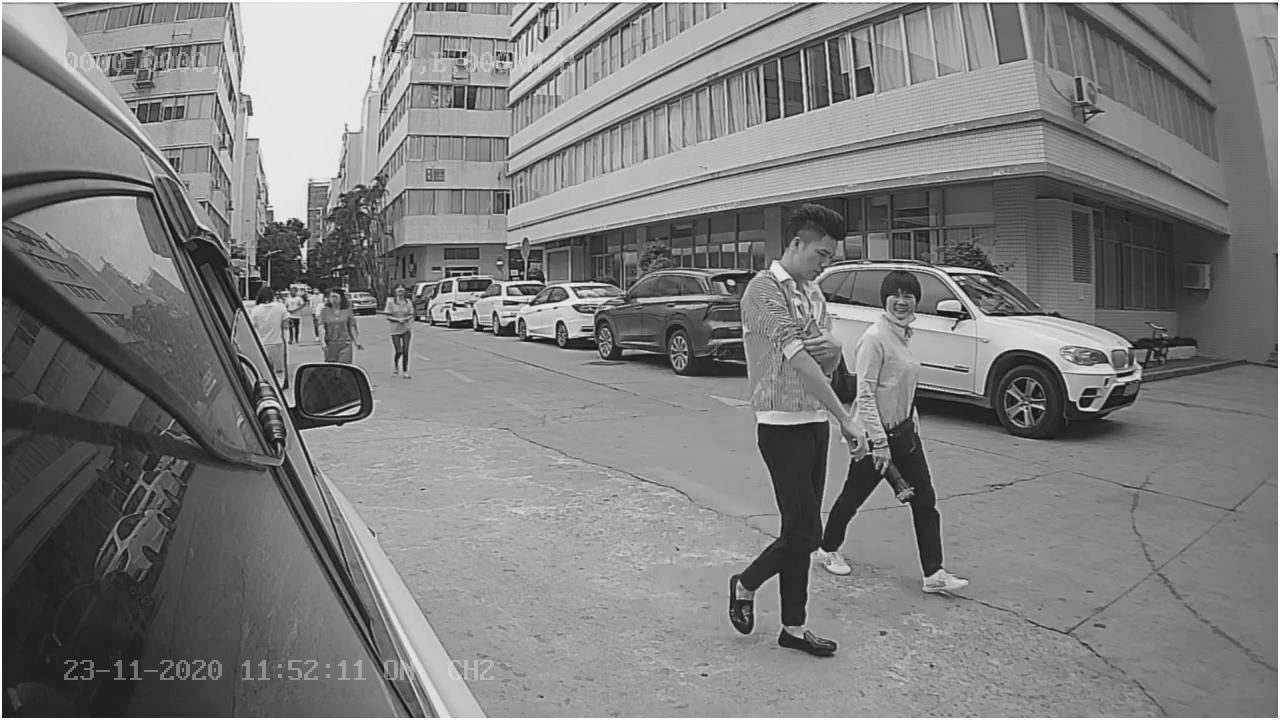person: (725, 212, 869, 659)
